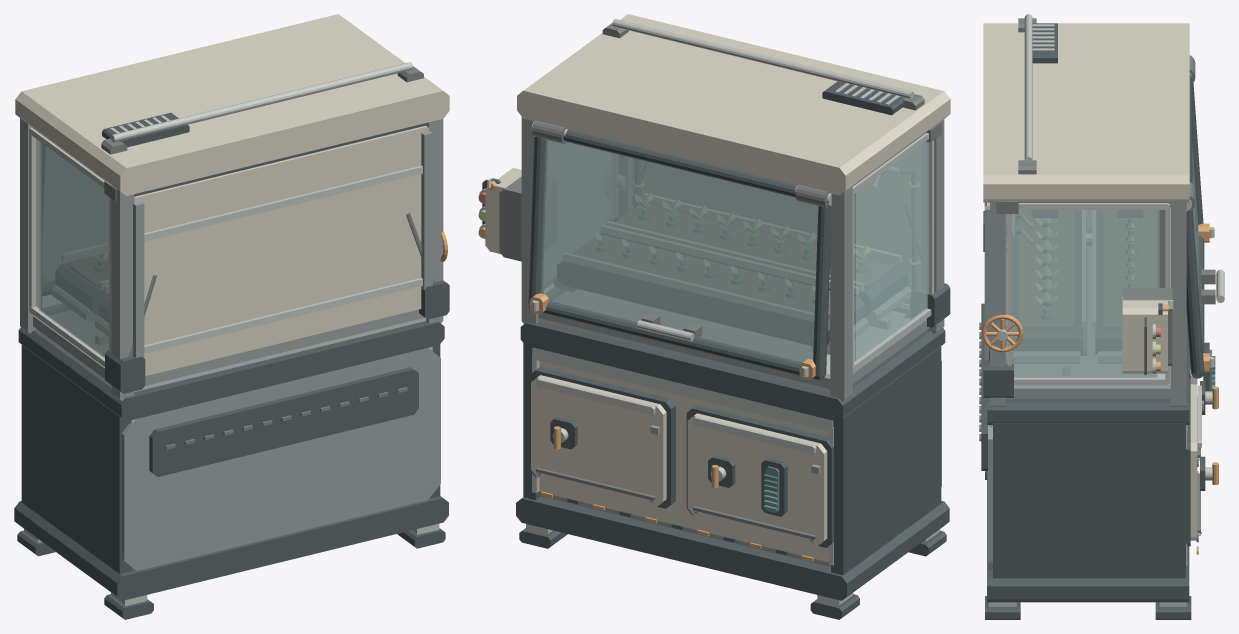
Rendered from seedling_station_source.glb.
3 renders of one model, left to right at view 1: azimuth 30°, elevation 25°; view 2: azimuth 150°, elevation 25°; view 3: azimuth 270°, elevation 25°, orthographic.
Visible parts, largest first — view 1: Static__bone, Static__graphite, Static__frame, Static__steel, Static__acrylic, Lid_Acrylic__acrylic, Static__castiron, Tray_A__graphite, Tray_A__soil; view 2: Static__bone, Static__graphite, Lid_Acrylic__acrylic, Static__steel, Static__acrylic, Static__frame, Lid_Frame__graphite, Tray_A__graphite, Static__offwhite, Static__castiron, Tray_A__soil, Tray_B__soil (+5 smaller); view 3: Static__graphite, Static__bone, Static__acrylic, Static__steel, Static__frame, Tray_B__soil, Tray_A__soil, Lid_Frame__graphite, Static__castiron, Tray_B__graphite, Tray_A__graphite, Water_Valve__ochre (+4 smaller).
Part boxes in pixels (bbox=[...]): Static__bone: bbox=[15, 14, 449, 375]; Static__graphite: bbox=[14, 112, 449, 619]; Static__frame: bbox=[20, 118, 443, 570]; Static__steel: bbox=[24, 62, 439, 605]; Static__acrylic: bbox=[39, 141, 109, 357]; Lid_Acrylic__acrylic: bbox=[43, 147, 108, 281]; Static__castiron: bbox=[95, 66, 434, 449]; Tray_A__graphite: bbox=[56, 254, 108, 315]; Tray_A__soil: bbox=[68, 256, 108, 286]; Static__bone: bbox=[485, 14, 950, 562]; Static__graphite: bbox=[482, 81, 950, 619]; Lid_Acrylic__acrylic: bbox=[540, 140, 818, 363]; Static__steel: bbox=[479, 19, 939, 605]; Static__acrylic: bbox=[544, 141, 928, 361]; Static__frame: bbox=[521, 117, 944, 566]; Lid_Frame__graphite: bbox=[528, 129, 830, 380]; Tray_A__graphite: bbox=[557, 235, 863, 345]; Static__offwhite: bbox=[563, 193, 901, 320]; Static__castiron: bbox=[499, 23, 941, 539]; Tray_A__soil: bbox=[573, 236, 830, 316]; Tray_B__soil: bbox=[616, 205, 894, 288]; Static__graphite: bbox=[981, 23, 1209, 619]; Static__bone: bbox=[983, 23, 1197, 540]; Static__acrylic: bbox=[1005, 210, 1157, 377]; Static__steel: bbox=[987, 14, 1224, 607]; Static__frame: bbox=[984, 200, 1203, 569]; Tray_B__soil: bbox=[1019, 210, 1074, 328]; Tray_A__soil: bbox=[1104, 210, 1159, 328]; Lid_Frame__graphite: bbox=[1186, 75, 1204, 378]; Static__castiron: bbox=[979, 18, 1215, 533]; Tray_B__graphite: bbox=[1013, 210, 1082, 353]; Tray_A__graphite: bbox=[1096, 210, 1165, 353]; Water_Valve__ochre: bbox=[981, 314, 1023, 352].
Bounding box in the file's own units: 1.57 × 1.81 × 0.8775.
